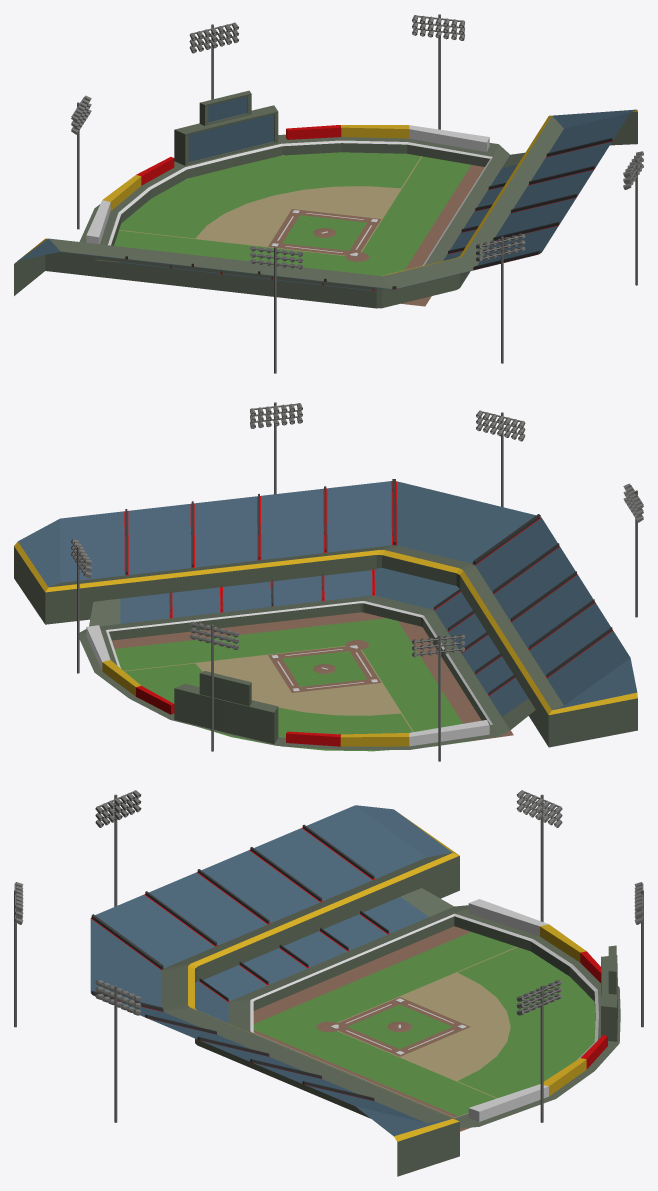
Rendered from baseball Field 005.fbx.
The picture shows the model from 3 angles, top to bottom: view 1: azimuth 30°, elevation 25°; view 2: azimuth 150°, elevation 25°; view 3: azimuth 270°, elevation 25°; orthographic projection. The views are drawn at different scales.
Visible parts, largest first — view 1: Cube, Circle, Cylinder.002, Cylinder, Cylinder.001; view 2: Cube, Circle, Cylinder.002, Cylinder, Cylinder.001; view 3: Cube, Circle, Cylinder.002, Cylinder, Cylinder.001.
Part boxes in pixels (<box>): Cube: <box>14,90,637,308</box>; Circle: <box>114,152,484,306</box>; Cylinder.002: <box>71,14,643,373</box>; Cylinder: <box>192,24,525,363</box>; Cylinder.001: <box>189,22,238,99</box>; Cube: <box>14,479,637,749</box>; Circle: <box>112,612,513,751</box>; Cylinder.002: <box>71,402,643,761</box>; Cylinder: <box>191,410,525,751</box>; Cylinder.001: <box>189,621,238,751</box>; Cube: <box>90,805,620,1176</box>; Circle: <box>253,926,595,1131</box>; Cylinder.002: <box>95,790,562,1122</box>; Cylinder: <box>14,882,643,1027</box>; Cylinder.001: <box>634,882,643,1027</box>.
Bounding box in the file's own units: 6216 × 1204 × 5024.
